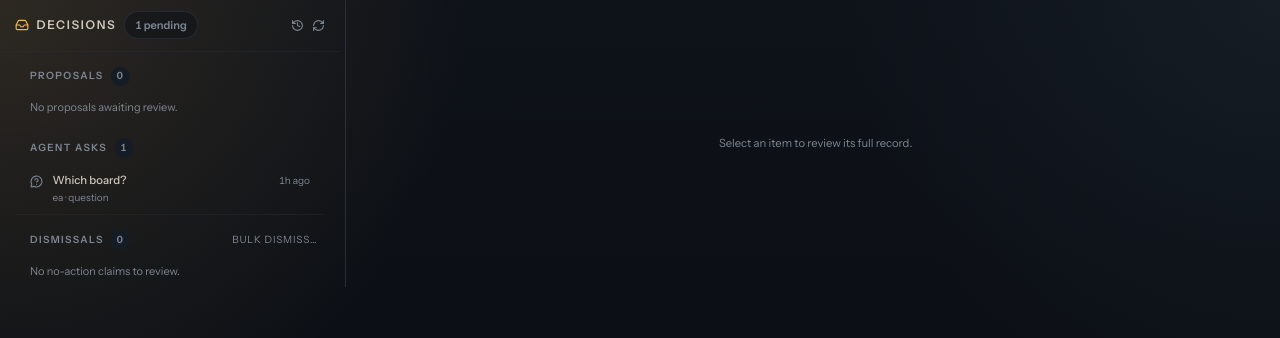
Scenario: DecisionsView operator item pane › lets the operator answer a discussion-linked question here too
Click the text "Which board?".
click(90, 180)  # box [52,173,127,187]
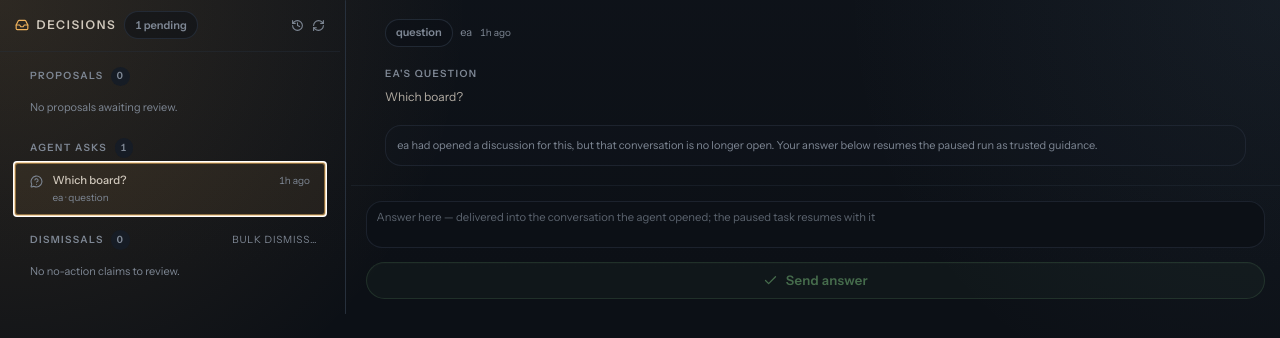
Check: the text box with placeholder "Answer here" is enabled, box [366,201,1265,248]
Check: the text "opened a discussion for this" is shown, box [409,138,1098,152]
